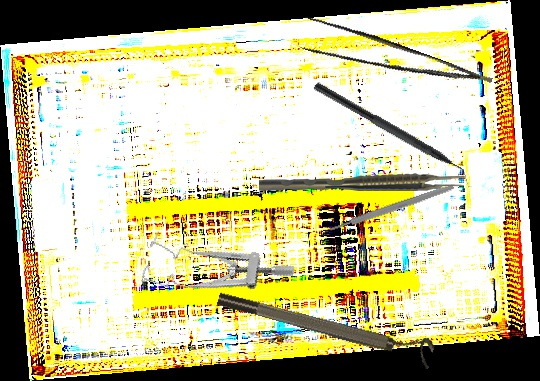Chopper: (306, 80, 481, 191)
Fixation Ring: (215, 279, 437, 370)
Scalpel Handle: (328, 182, 455, 234)
Speculum: (138, 219, 297, 325)
Tissue Forceps: (294, 10, 493, 114), (259, 173, 464, 191)
